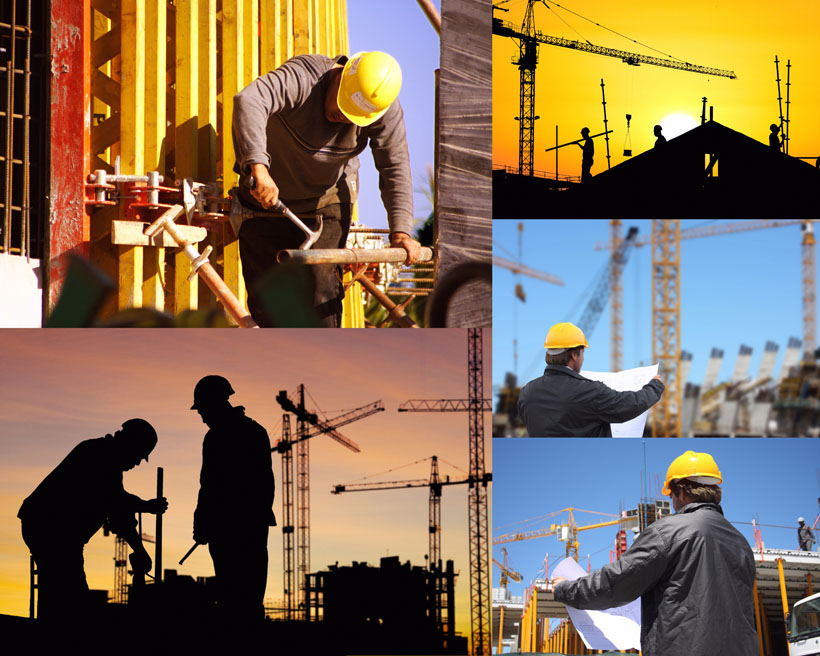helmet: (324, 34, 414, 137), (657, 444, 737, 523), (540, 316, 597, 379)
